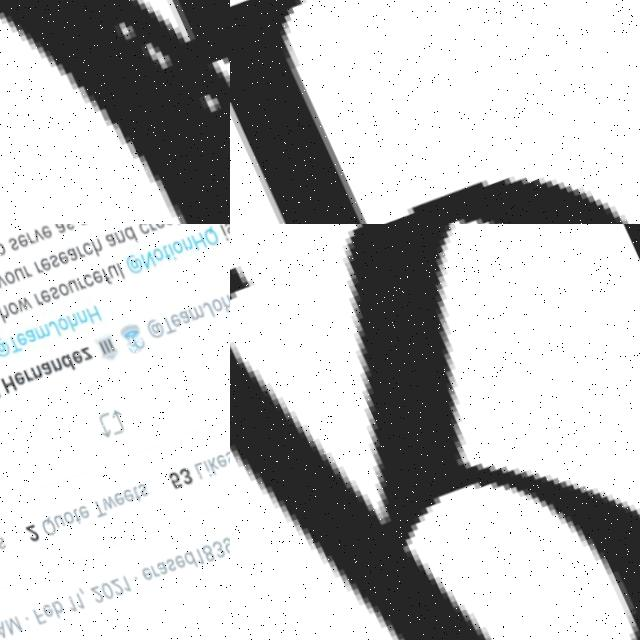0: (99, 575, 116, 598)
1: (71, 586, 87, 609), (118, 567, 132, 589), (192, 541, 206, 561), (65, 591, 78, 611)
2: (23, 520, 41, 543), (89, 581, 105, 601), (109, 572, 124, 593)
3: (177, 460, 196, 482), (210, 532, 227, 555)
5: (167, 463, 185, 485)
8: (200, 536, 217, 558)
9: (219, 527, 230, 550)
P: (230, 0, 639, 224)
R: (230, 224, 640, 640)
